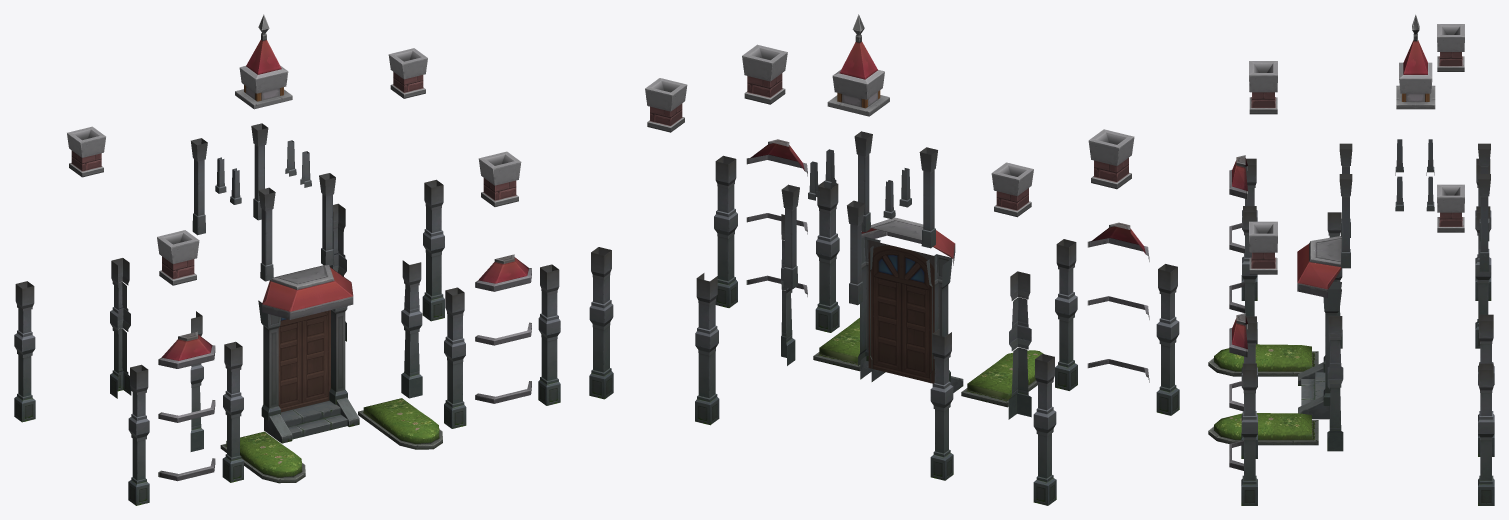
Rendered from scene_luoliante_szfd_02.FBX.
3 renders of one model, left to right at view 1: azimuth 30°, elevation 25°; view 2: azimuth 150°, elevation 25°; view 3: azimuth 270°, elevation 25°, orthographic. The views are drawn at different scales.
Parts seen in each view (by area): view 1: scene_luoliante_szfd_02; view 2: scene_luoliante_szfd_02; view 3: scene_luoliante_szfd_02.
Boxes of the visible parts, box(x1,y1,x2,y2) form: scene_luoliante_szfd_02: box(14, 14, 560, 505); scene_luoliante_szfd_02: box(589, 14, 1179, 505); scene_luoliante_szfd_02: box(1208, 14, 1494, 505).
Bounding box in the file's own units: 1084 × 923 × 620.
